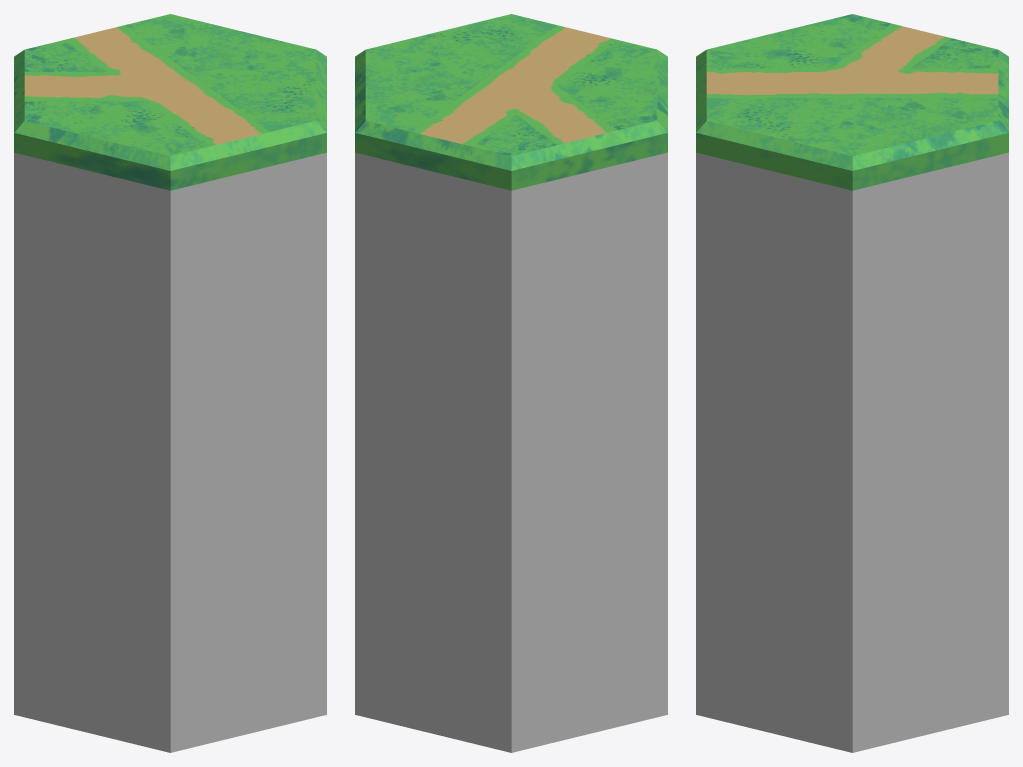
File: TerrainForkLeft.fbx
The picture shows the model from 3 angles, left to right: view 1: azimuth 30°, elevation 25°; view 2: azimuth 150°, elevation 25°; view 3: azimuth 270°, elevation 25°; orthographic projection.
Visible parts, largest first — view 1: TerrainForkLeft_LOD0; view 2: TerrainForkLeft_LOD0; view 3: TerrainForkLeft_LOD0.
Part boxes in pixels (x1=…): TerrainForkLeft_LOD0: x1=14, y1=14, x2=326, y2=752; TerrainForkLeft_LOD0: x1=355, y1=14, x2=667, y2=752; TerrainForkLeft_LOD0: x1=696, y1=14, x2=1008, y2=752.
Size of what is drawn, in the model's own units: 500 by 904 by 433.
